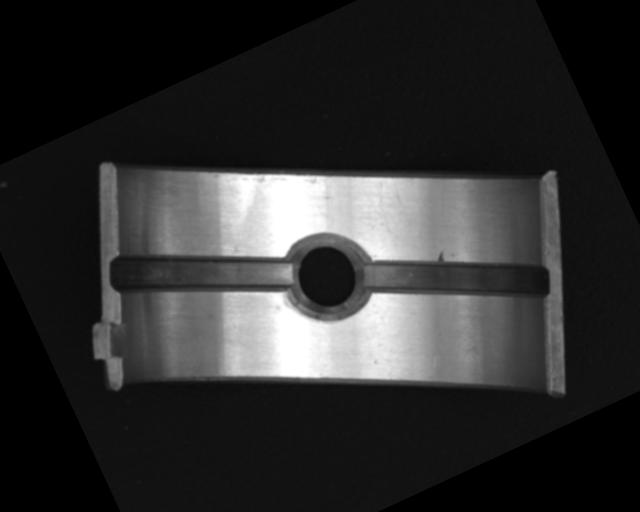bruise: (431, 248, 447, 264)
gap: (360, 196, 554, 360), (104, 192, 299, 352)
hole: (276, 222, 378, 328)
